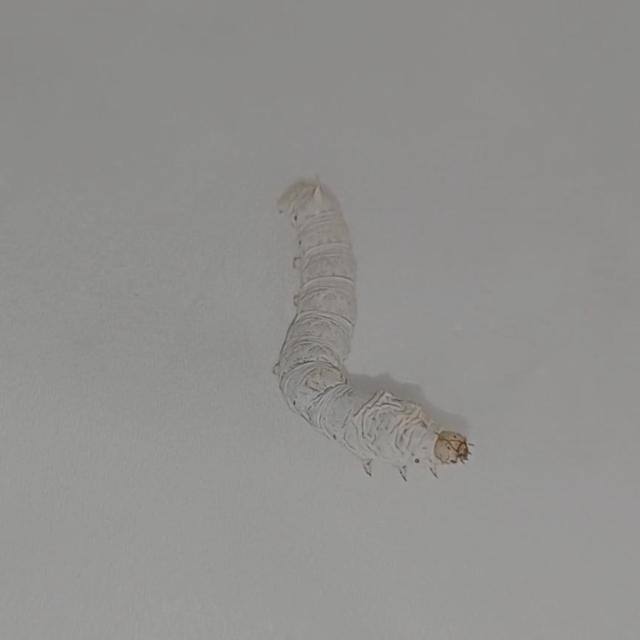Healthy: (244, 150, 556, 520)
